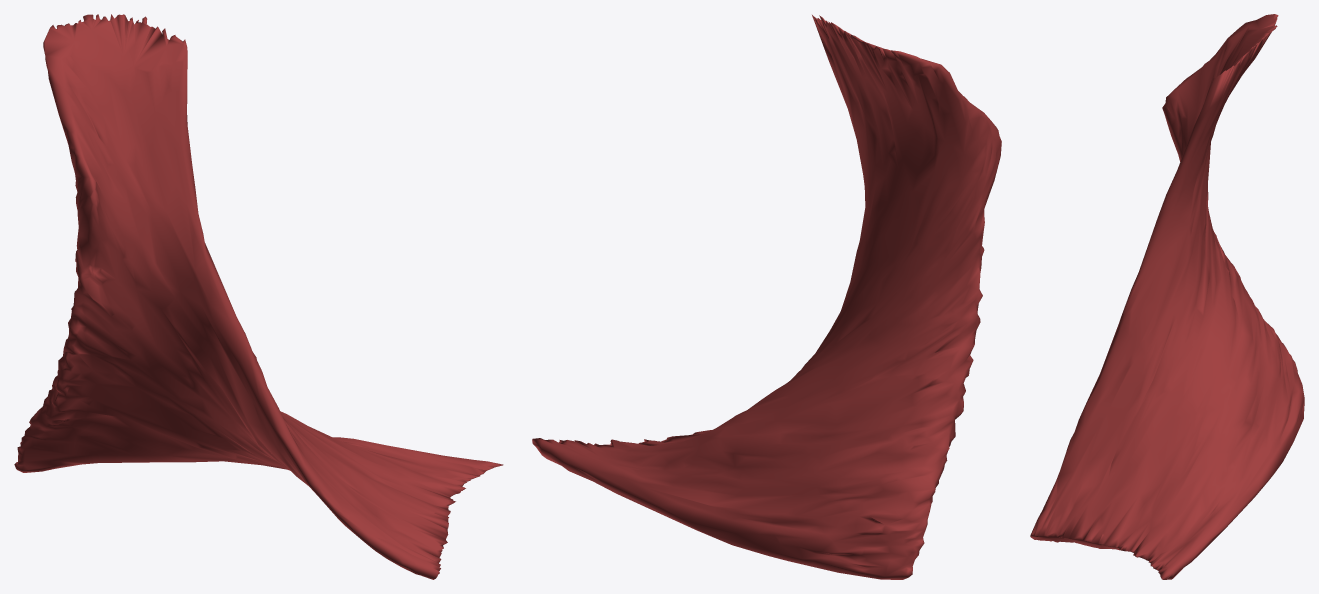
File: ascending-part-of-trapezius-muscle-l.glb
The picture shows the model from 3 angles, left to right: view 1: azimuth 30°, elevation 25°; view 2: azimuth 150°, elevation 25°; view 3: azimuth 270°, elevation 25°; orthographic projection. The views are drawn at different scales.
Visible parts, largest first — view 1: Ascending part of trapezius muscle.l; view 2: Ascending part of trapezius muscle.l; view 3: Ascending part of trapezius muscle.l.
Part boxes in pixels (box(x1,y1,x2,y2)): Ascending part of trapezius muscle.l: box(14, 14, 503, 579); Ascending part of trapezius muscle.l: box(532, 15, 1001, 579); Ascending part of trapezius muscle.l: box(1030, 14, 1304, 579).
Bounding box in the file's own units: 0.1351 × 0.1592 × 0.0921.
